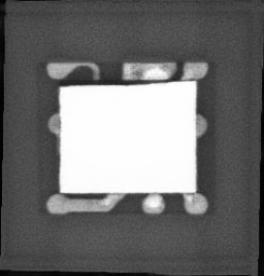DIE_BROKEN: (56, 78, 158, 86)
